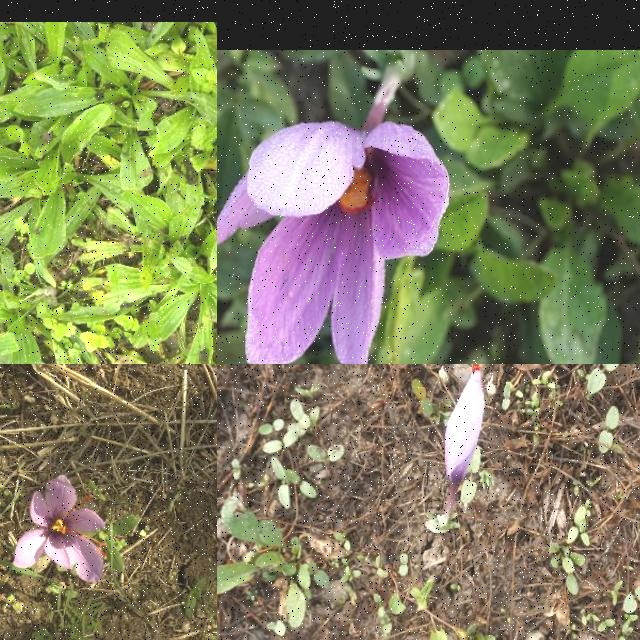flower: (217, 123, 450, 364), (13, 476, 106, 584), (444, 364, 485, 487)
